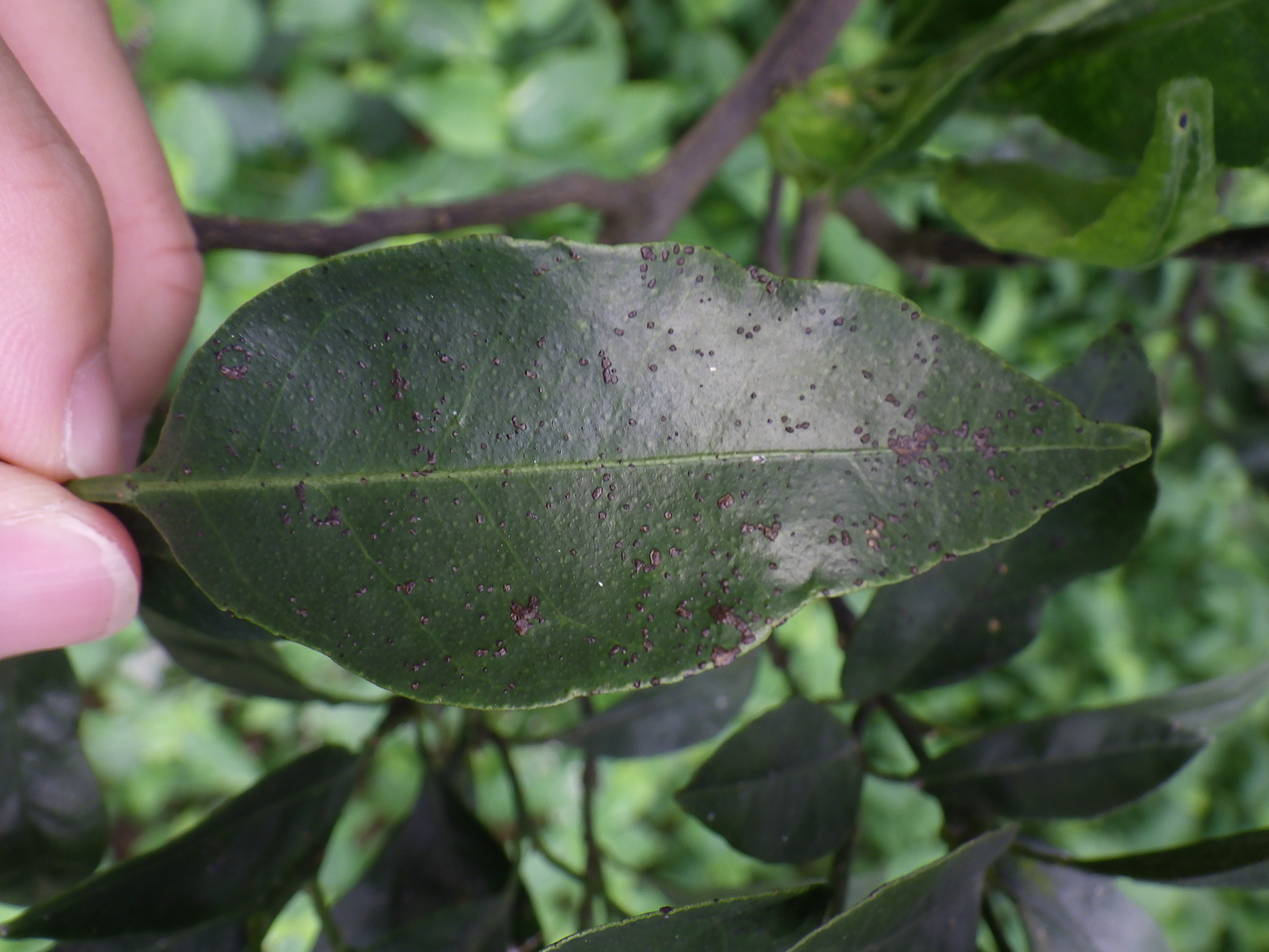Black_Spot: (76, 236, 1148, 707)
